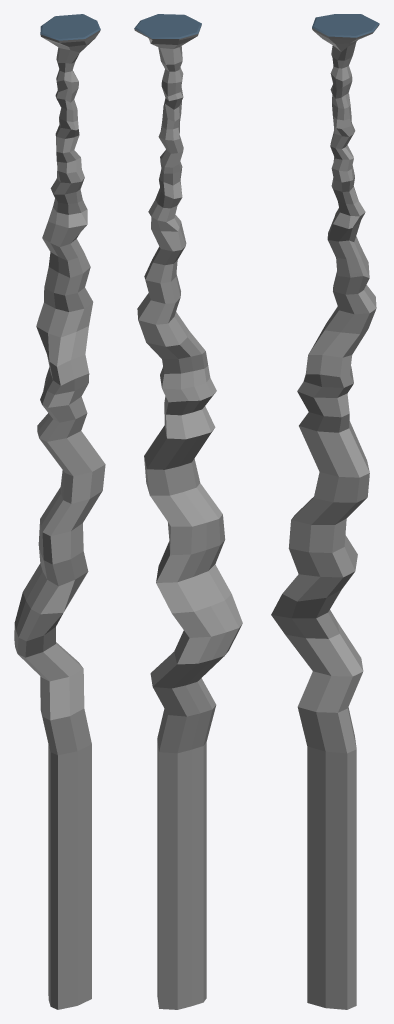
The model's file is Low Poly Vignette Island.fbx.
The picture shows the model from 3 angles, left to right: view 1: azimuth 30°, elevation 25°; view 2: azimuth 150°, elevation 25°; view 3: azimuth 330°, elevation 25°; orthographic projection.
Parts seen in each view (by area): view 1: Low Poly Island; view 2: Low Poly Island; view 3: Low Poly Island.
Part boxes in pixels (x1,y1,x2,y2): Low Poly Island: (14, 14, 105, 1009); Low Poly Island: (134, 14, 242, 1009); Low Poly Island: (271, 14, 379, 1009).
Bounding box in the file's own units: 2318 × 24224 × 1812.
